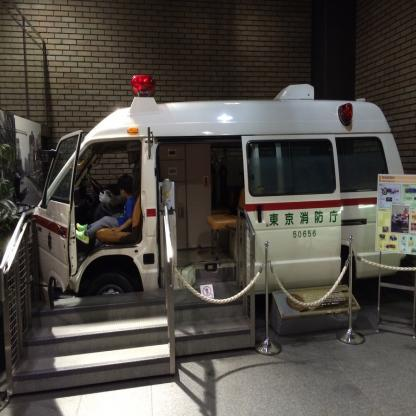Ambulance - v1 Ambulance last generate: (31, 71, 413, 296)
